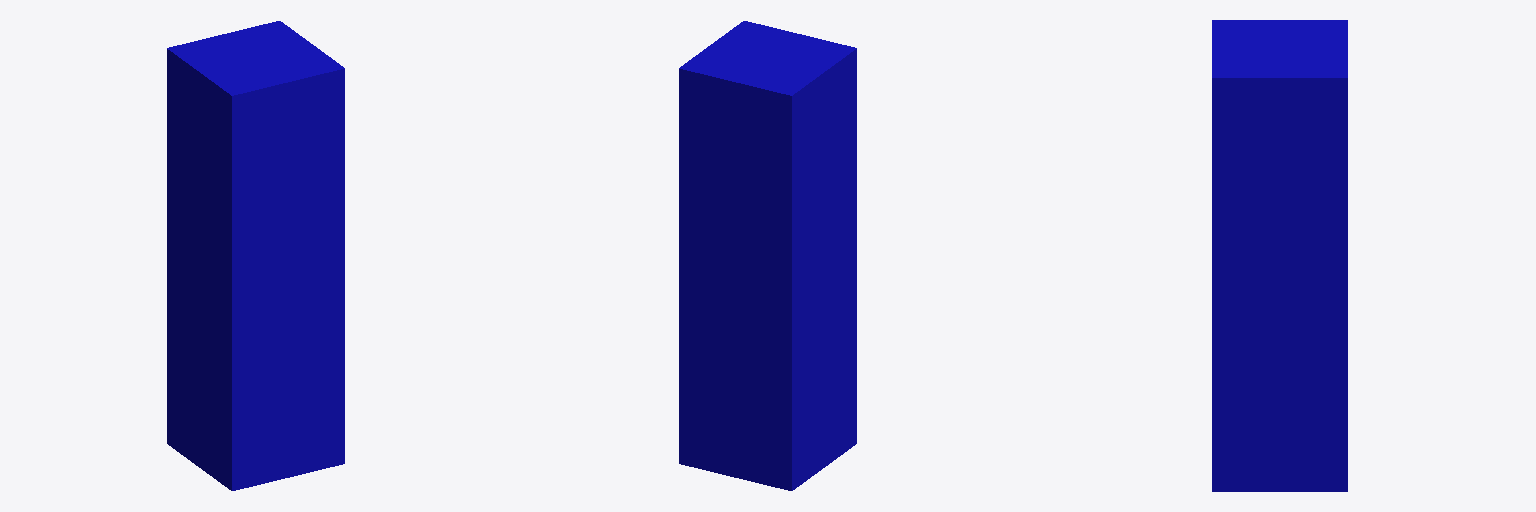
robot.urdf — simple_cuboid:
<?xml version="1.0"?>
<robot name="simple_cuboid">
  <link name="base_link">
    <inertial>
      <origin xyz="0 0 0" rpy="0 0 0" />
      <mass value="0.1" />
      <inertia ixx="0.000363" ixy="0" ixz="0" iyy="0.000363" iyz="0"
          izz="0.00006" />
    </inertial>
    <visual>
      <origin xyz="0 0 0" rpy="0 0 0" />
      <geometry>  <box size="0.06 0.06 0.2" />
        <box size="0.06 0.12 0.2" />
      </geometry>
      <material name="green">
        <color rgba="0.1 0.1 0.8 0.9" />
      </material>
    </visual>

    <!--
      This places contact spheres on the corners of the visual box and a
      *slightly* smaller inset contact box (centered on the visual origin). This
      accounts for issues in the contact computation providing stable table
      contact *and* supports grasping.

      When the box is in stable contact with the ground plane, the corner
      spheres will provide fixed contact points (simulating distributed contact
      points around the face).  However, for arbitrary grip configuration, the
      slightly inset box will provide contact with a *slight* offset (in this
      case a deviation of 0.0005 m from the visual surface).
     -->
    <collision>
      <geometry>
        <box size="0.059 0.119 0.199" />
      </geometry>
    </collision>

    <collision>
      <origin xyz="-0.03 -0.06 -0.1" rpy="0 0 0"/>
      <geometry>
        <sphere radius="1e-7"/>
      </geometry>
    </collision>
    <collision>
      <origin xyz="-0.03 0.06 -0.1" rpy="0 0 0"/>
      <geometry>
        <sphere radius="1e-7"/>
      </geometry>
    </collision>
    <collision>
      <origin xyz="0.03 0.06 -0.1" rpy="0 0 0"/>
      <geometry>
        <sphere radius="1e-7"/>
      </geometry>
    </collision>
    <collision>
      <origin xyz="0.03 -0.06 -0.1" rpy="0 0 0"/>
      <geometry>
        <sphere radius="1e-7"/>
      </geometry>
    </collision>

    <collision>
      <origin xyz="-0.03 -0.06 0.1" rpy="0 0 0"/>
      <geometry>
        <sphere radius="1e-7"/>
      </geometry>
    </collision>
    <collision>
      <origin xyz="-0.03 0.06 0.1" rpy="0 0 0"/>
      <geometry>
        <sphere radius="1e-7"/>
      </geometry>
    </collision>
    <collision>
      <origin xyz="0.03 0.06 0.1" rpy="0 0 0"/>
      <geometry>
        <sphere radius="1e-7"/>
      </geometry>
    </collision>
    <collision>
      <origin xyz="0.03 -0.06 0.1" rpy="0 0 0"/>
      <geometry>
        <sphere radius="1e-7"/>
      </geometry>
    </collision>

   </link>
</robot>

--- Facts derived from the render (not from the file) ---
Views: 3 orthographic renders of the robot side by side, from view 1: azimuth 30°, elevation 25°; view 2: azimuth 150°, elevation 25°; view 3: azimuth 270°, elevation 25°.
Robot: simple_cuboid — 1 links, 0 joints (none); root link base_link; default pose: all joints at 0.
Visible links, largest first — view 1: base_link; view 2: base_link; view 3: base_link.
Boxes of the visible links, x1,y1,x2,y2 form: base_link: [167, 21, 344, 490]; base_link: [679, 21, 856, 490]; base_link: [1212, 20, 1347, 491].
Bounding box of the posed robot: 0.06 × 0.06 × 0.2 m (x, y, z).
Geometry: primitives only (box / cylinder / sphere), no mesh files.